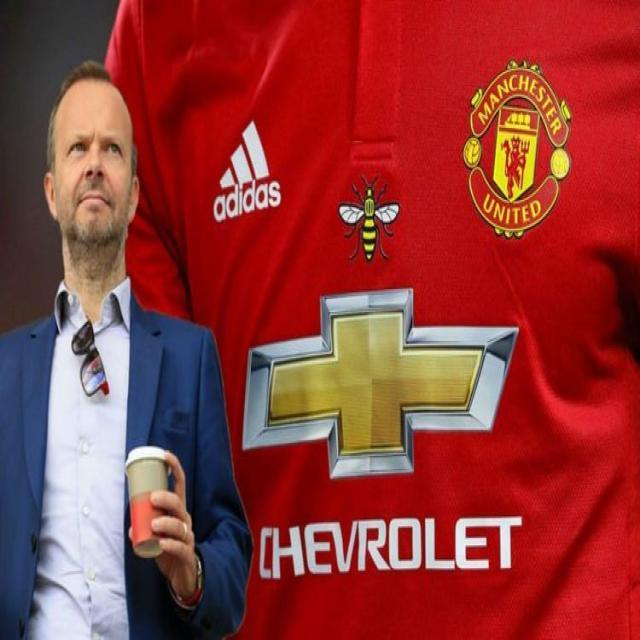Adidas: (212, 122, 284, 224)
Chevrolet: (247, 290, 523, 581)
